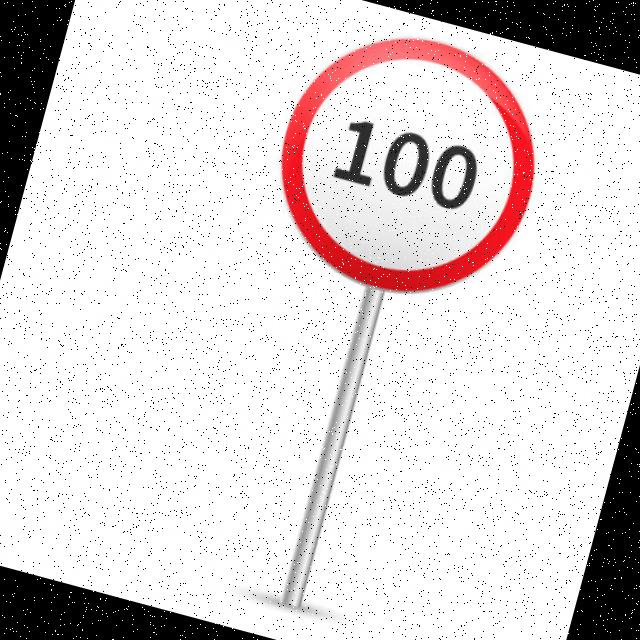speed_limit_100: (250, 4, 573, 331)
